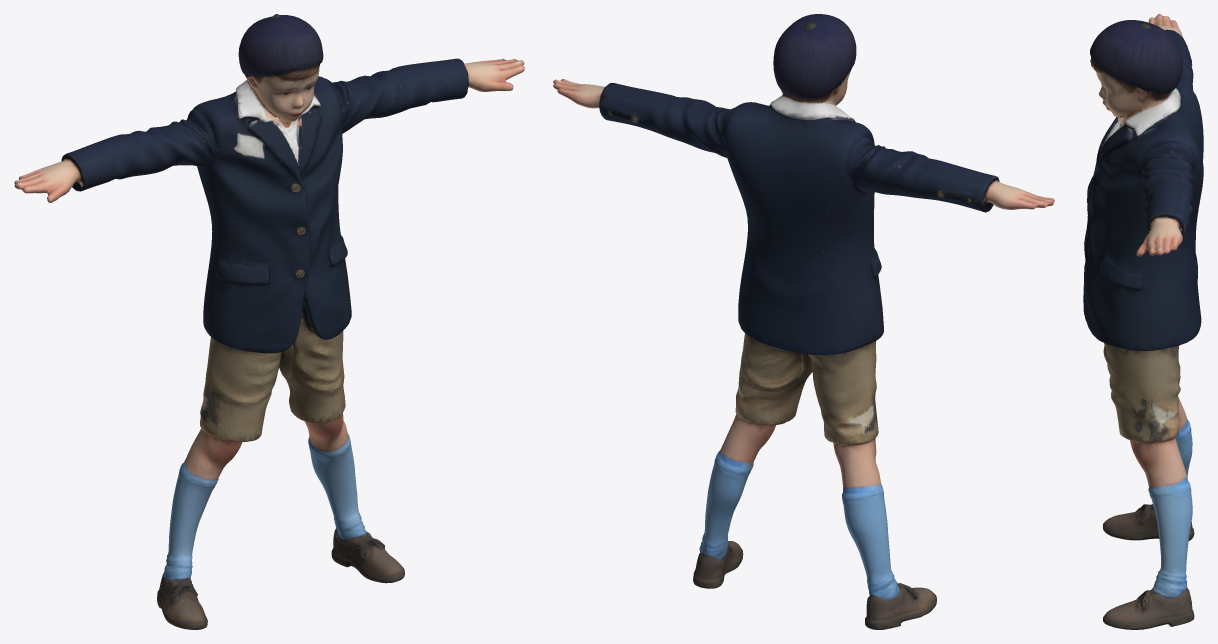
The model's file is Meshy_AI_Georg_T_pose_0125181111_texture.fbx.
The picture shows the model from 3 angles, left to right: view 1: azimuth 30°, elevation 25°; view 2: azimuth 150°, elevation 25°; view 3: azimuth 270°, elevation 25°; orthographic projection. The views are drawn at different scales.
Parts seen in each view (by area): view 1: Mesh1.0; view 2: Mesh1.0; view 3: Mesh1.0.
Boxes of the visible parts, left/top/right/bottom form: Mesh1.0: left=14, top=14, right=524, bottom=629; Mesh1.0: left=553, top=14, right=1054, bottom=629; Mesh1.0: left=1083, top=14, right=1203, bottom=629.
Size of the model in its own units: 142 by 155 by 30.4.
Materials: 1 (1 with a texture image).
